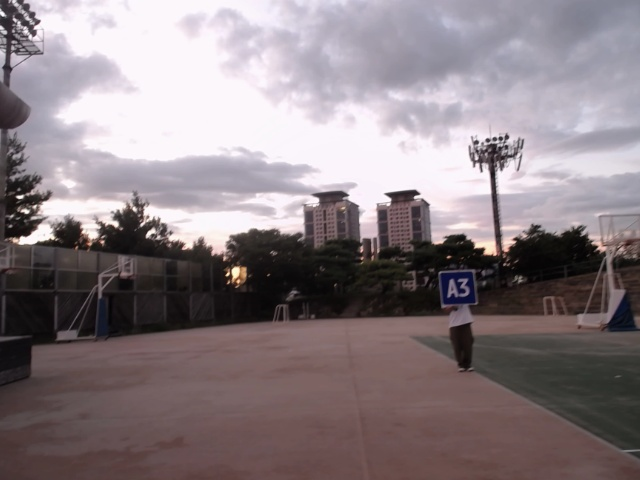delivery_a3: (440, 270, 478, 306)
